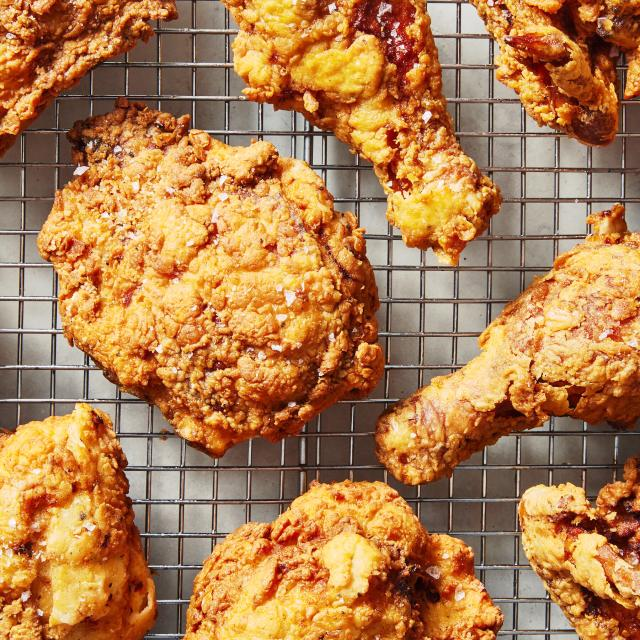fried_chicken: (39, 100, 386, 458), (222, 0, 500, 263), (378, 204, 640, 483), (183, 480, 504, 640), (0, 400, 155, 640), (518, 456, 640, 640)
